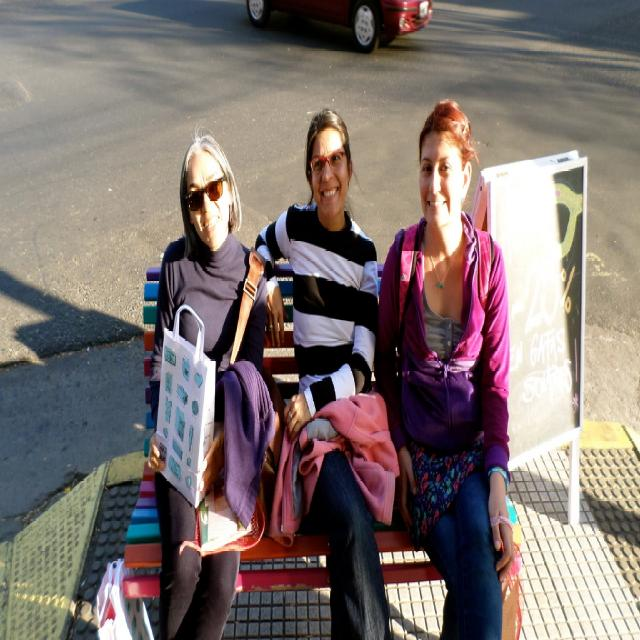other: (246, 0, 432, 54)
